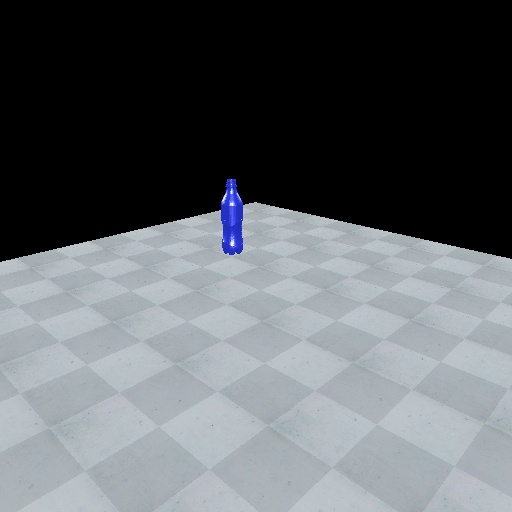bottle: (218, 176, 245, 256)
